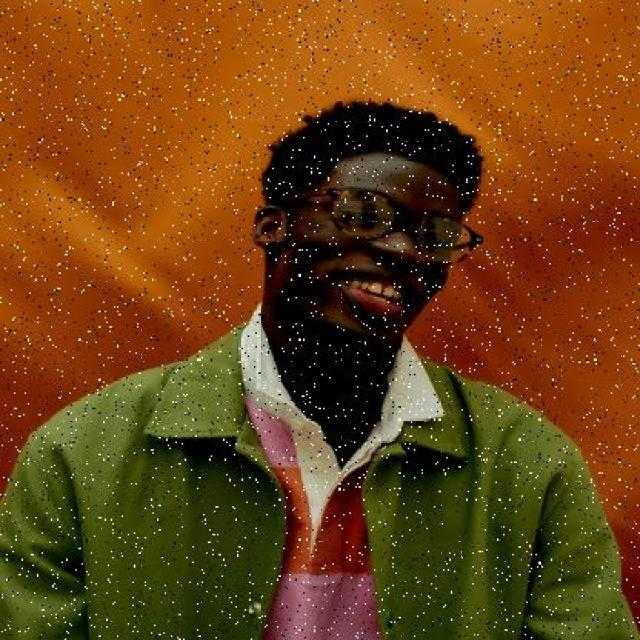mask: (310, 185, 490, 278)
